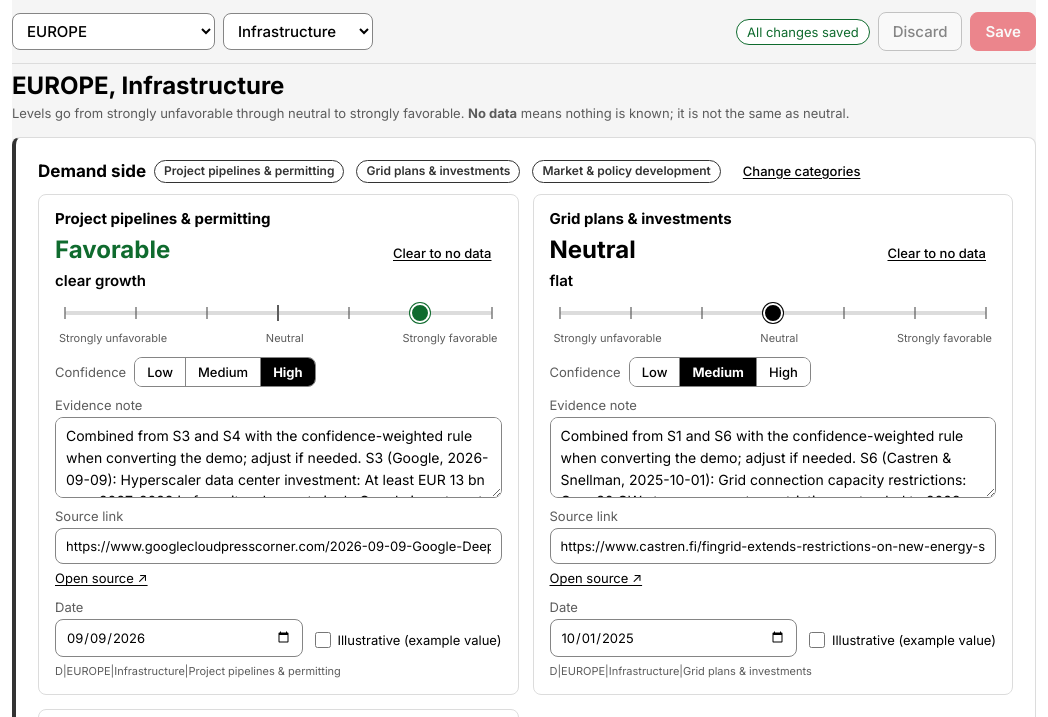
Test: InputsTab › changes categories inline: max 3, ABB-internal labelled, unticked values are kept
The image size is (1048, 717).
Expected: the heading "EUROPE, Infrastructure" is shown, [12,71,284,100]
Click the button "Change categories" at (802, 171), box [733,158,870,184]
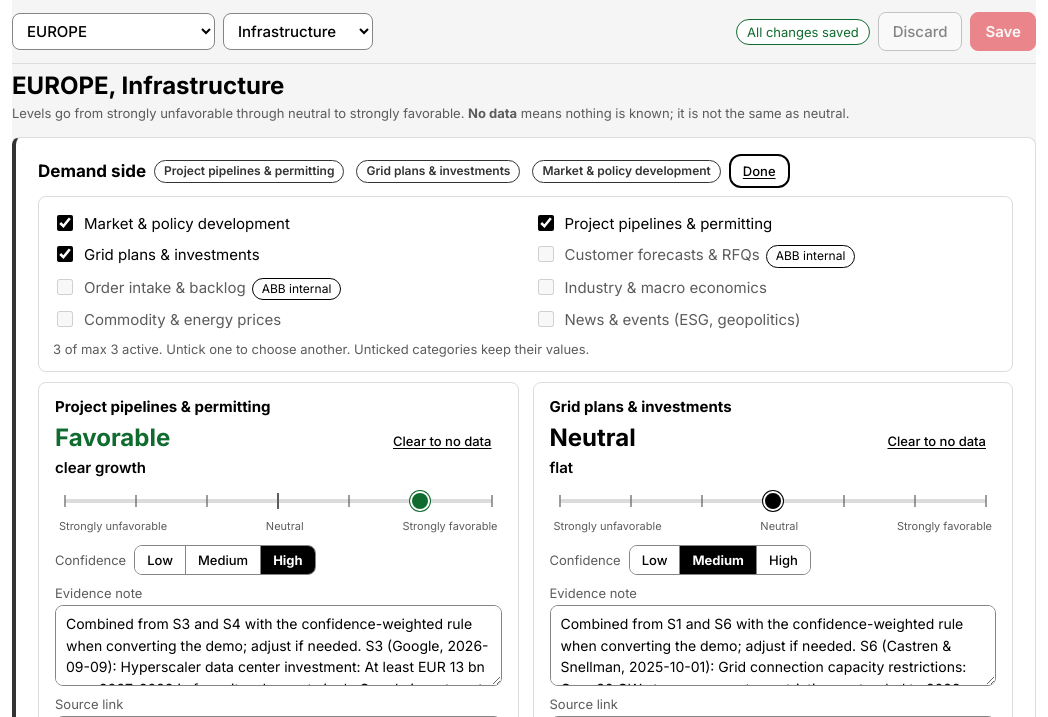
Result: the checkbox labelled "Industry & macro economics" is disabled at [538,279,554,295]
Result: the text "ABB internal" is shown 2 times at [766,245,855,268]; [252,278,341,300]
Click the checkbox labelled "Market & policy development" at (65, 223), box [57,215,73,231]
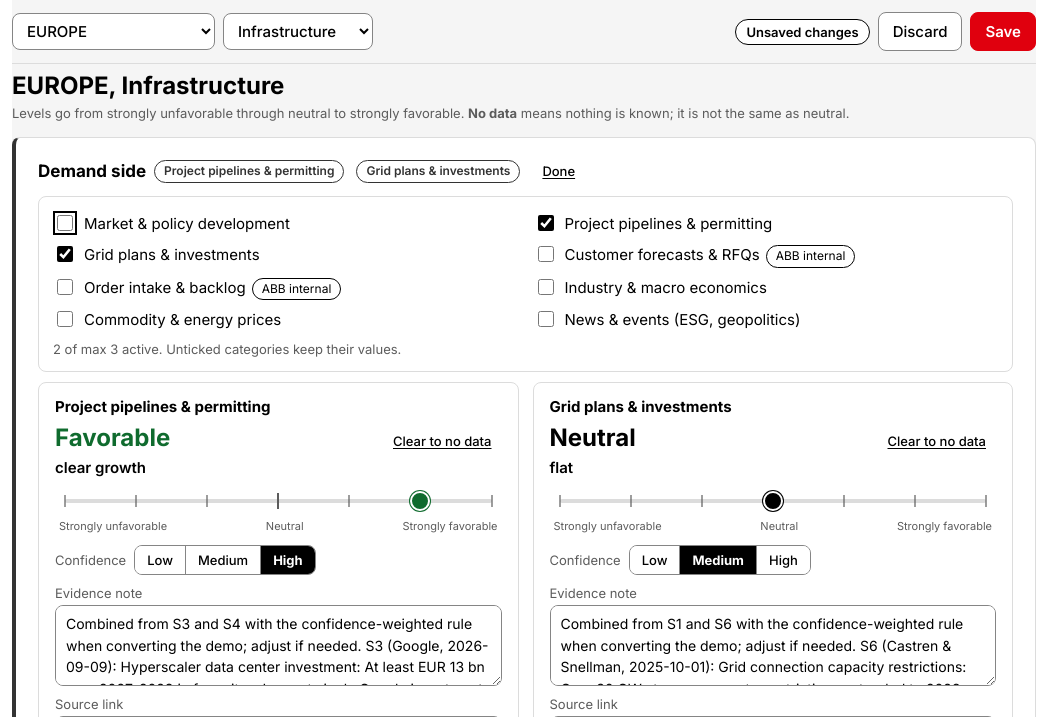
Result: the text "Unsaved changes" is shown at [735,18,870,45]
Click the checkbox labelled "Industry & macro economics" at (546, 287), box [538,279,554,295]
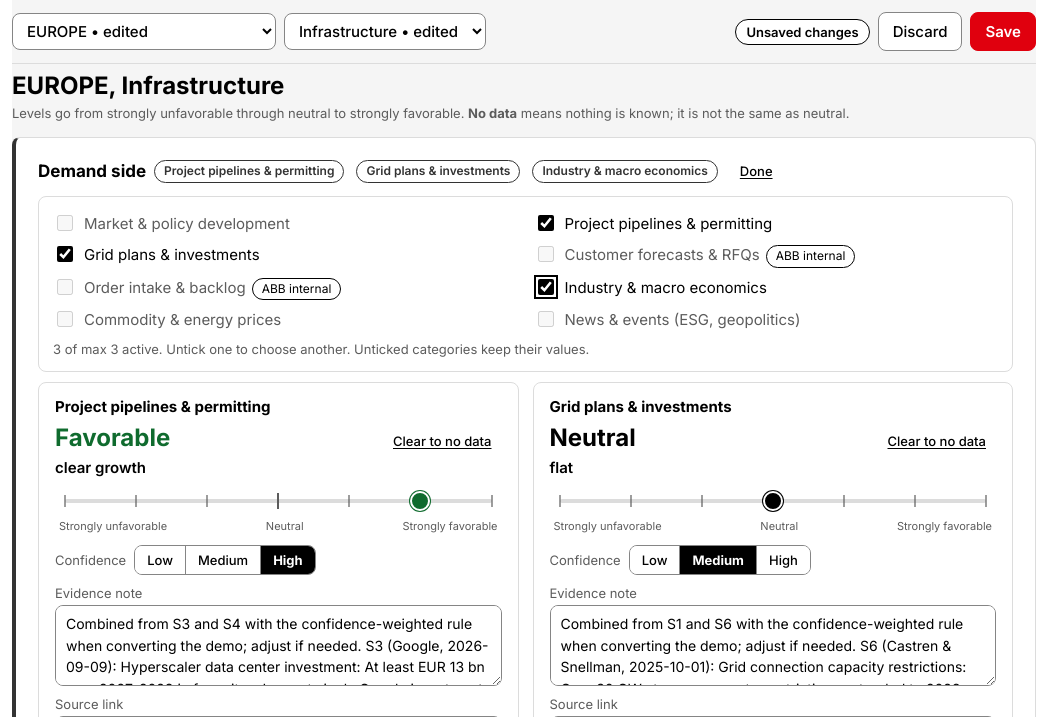
Click the checkbox labelled "Industry & macro economics" at (546, 287), box [538,279,554,295]
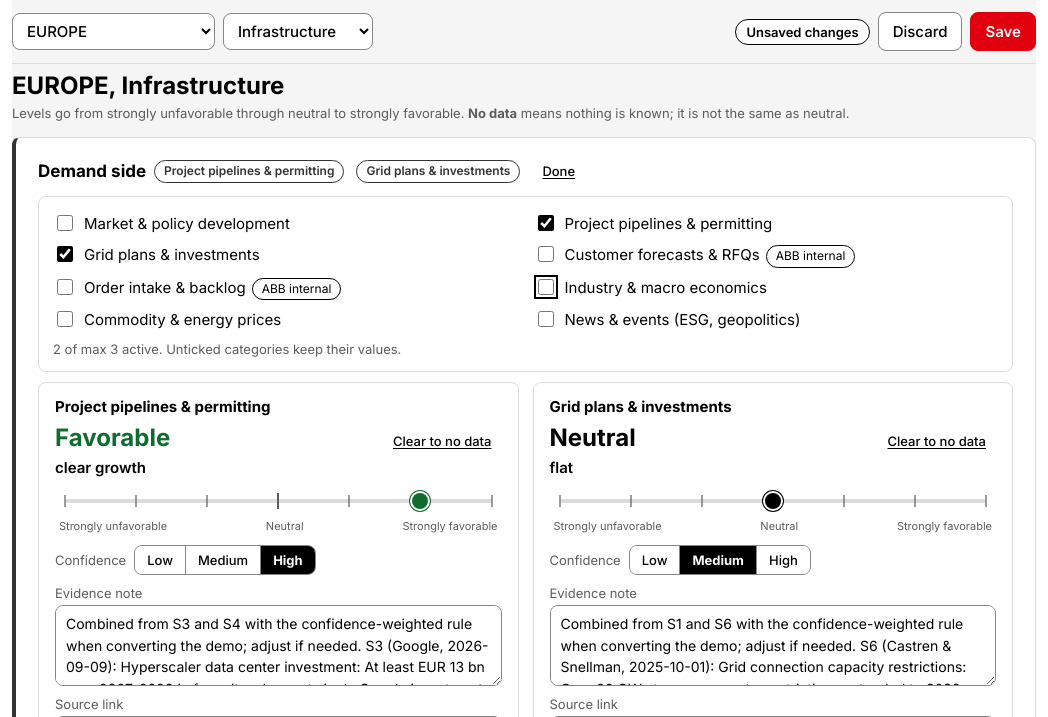
Click the checkbox labelled "Market & policy development" at (65, 223), box [57,215,73,231]
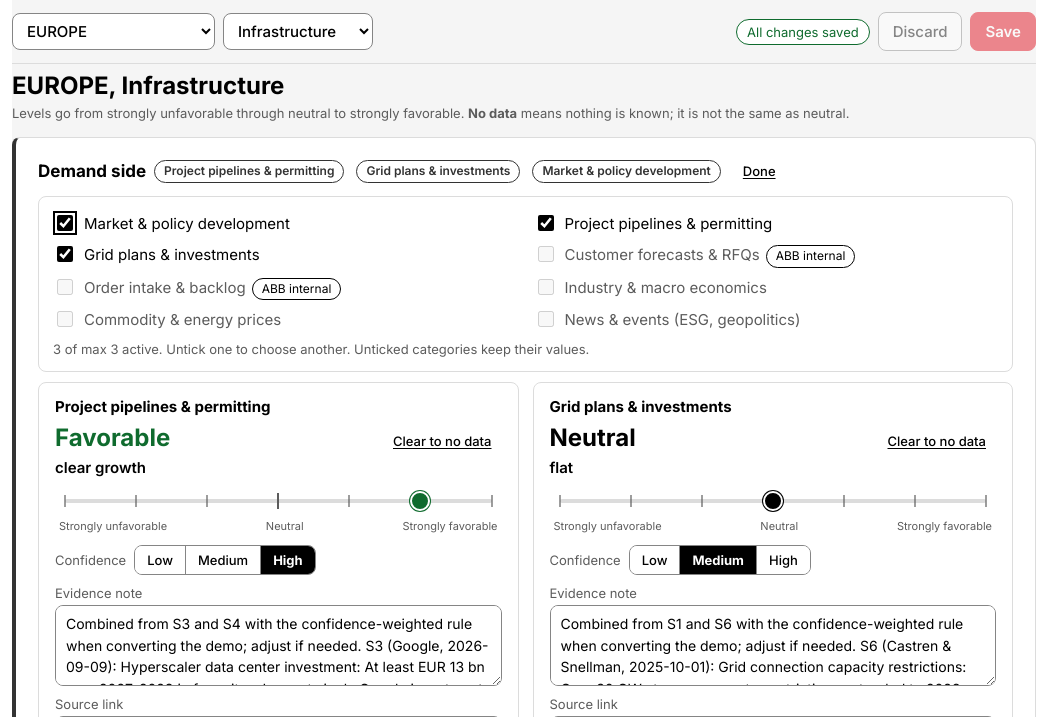
Result: the text "All changes saved" is shown at [736,18,870,45]
